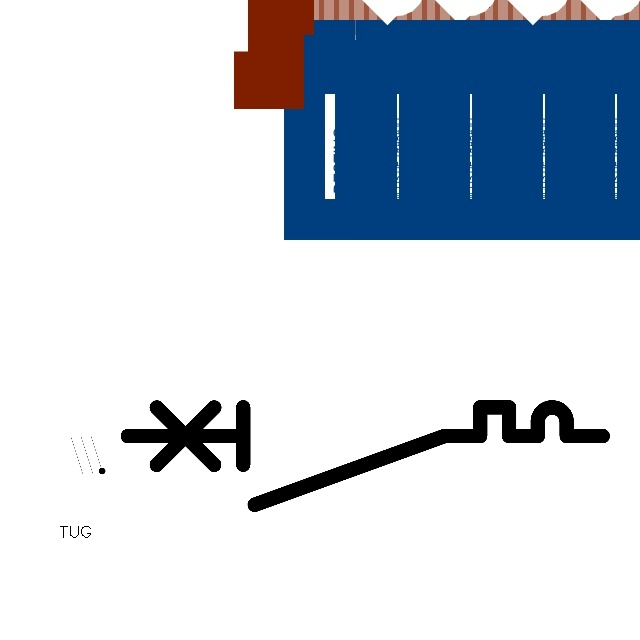interruptor_termomagnetico: (115, 395, 615, 517)
